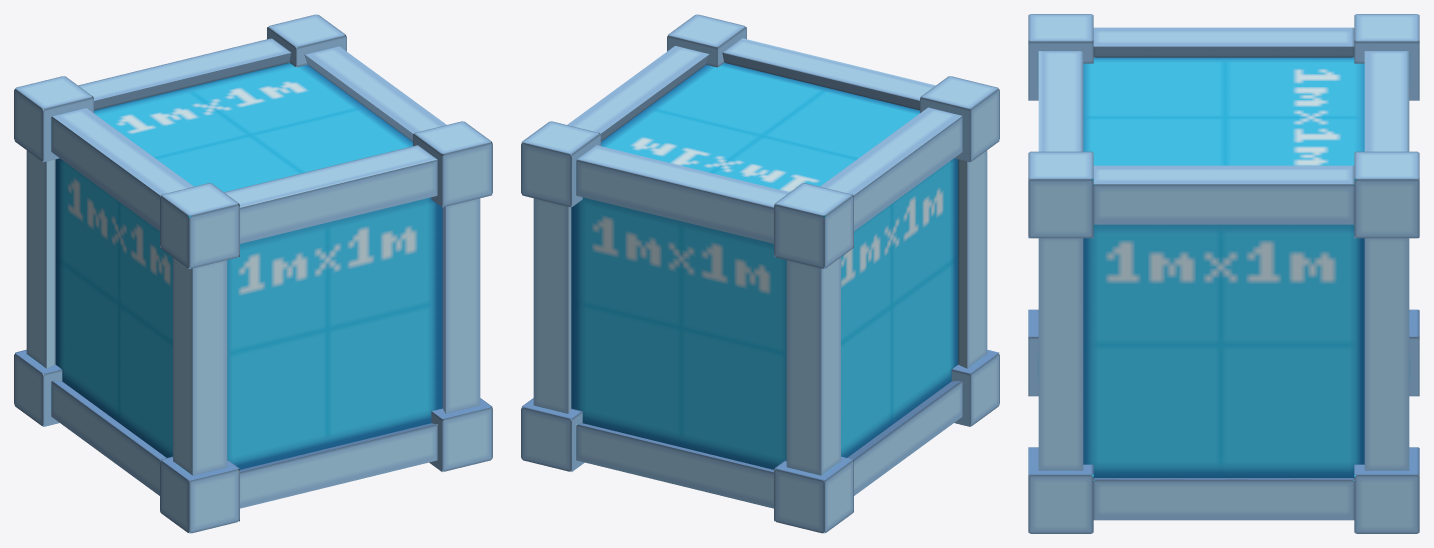
File: cubel.fbx
3 views of the same model, side by side, from view 1: azimuth 30°, elevation 25°; view 2: azimuth 150°, elevation 25°; view 3: azimuth 270°, elevation 25° (orthographic). The views are drawn at different scales.
Visible parts, largest first — view 1: mesh; view 2: mesh; view 3: mesh.
Boxes of the visible parts, box(x1,y1,x2,y2) form: mesh: box(14, 14, 492, 533); mesh: box(521, 14, 999, 533); mesh: box(1028, 14, 1419, 533).
Size of the model in its own units: 100 by 100 by 100.
1 material, 1 textured.
